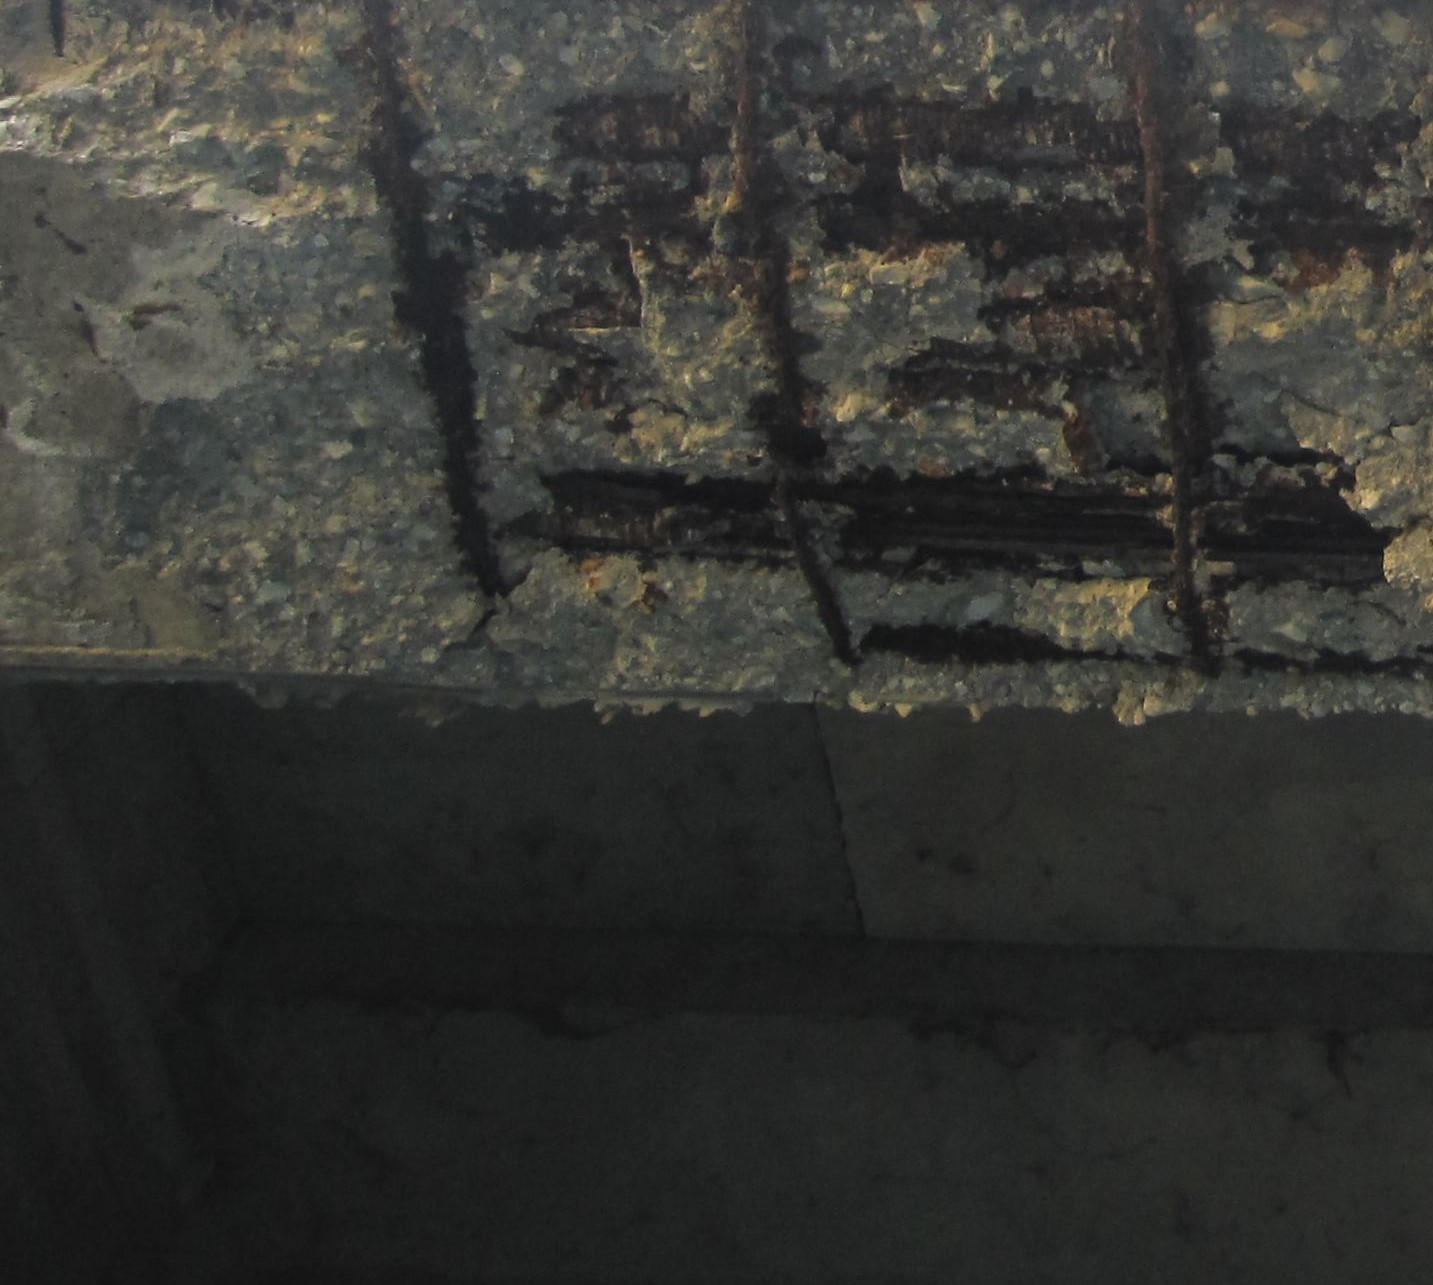Exposed reinforcement: (736, 1, 861, 675), (368, 1, 507, 602), (545, 83, 1433, 174), (1134, 1, 1222, 683), (810, 190, 1145, 283), (457, 192, 717, 253), (837, 514, 1177, 558), (859, 621, 1186, 666), (797, 481, 1175, 514), (538, 468, 780, 514), (887, 367, 1069, 420), (1225, 221, 1417, 270), (560, 533, 797, 569), (1232, 645, 1433, 681), (499, 322, 619, 368), (976, 291, 1145, 322), (1234, 197, 1388, 220), (1196, 535, 1387, 552), (1202, 552, 1385, 563)
Spalling: (1, 1, 1433, 727)
